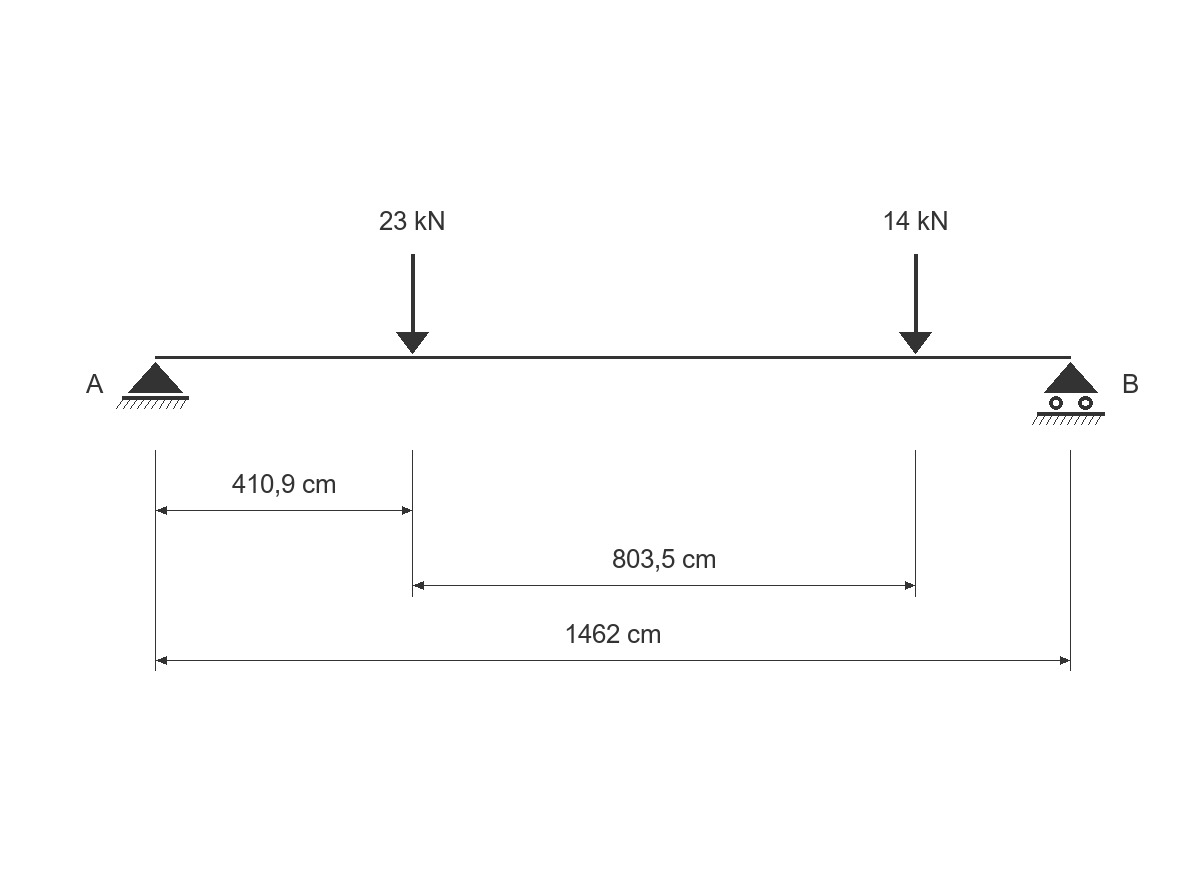pin_support: (116, 362, 189, 409)
point_load: (396, 254, 429, 354), (899, 254, 932, 354)
roller_support: (1032, 362, 1105, 425)
